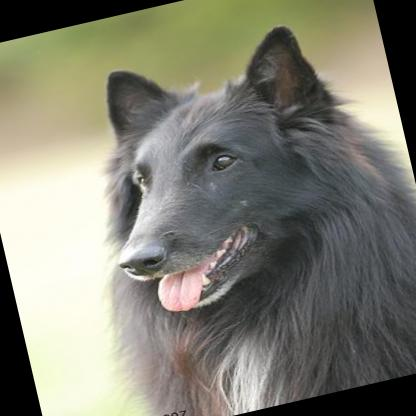groenendael: (55, 1, 416, 416)
